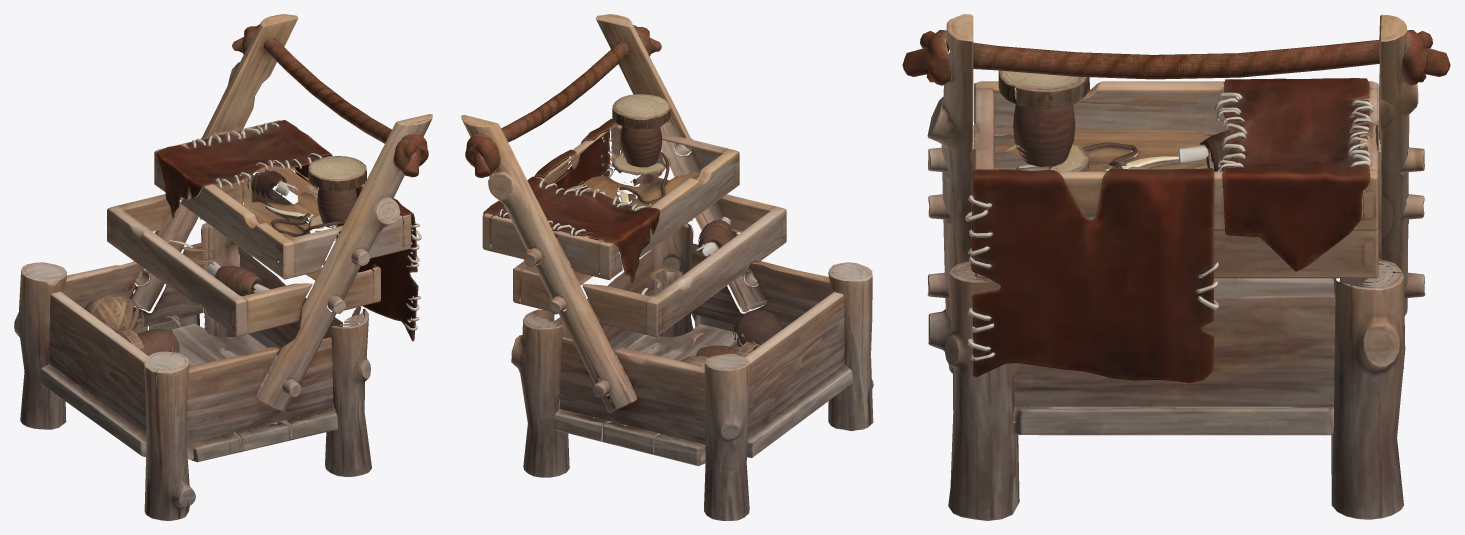
The picture shows the model from 3 angles, left to right: view 1: azimuth 30°, elevation 25°; view 2: azimuth 150°, elevation 25°; view 3: azimuth 270°, elevation 25°; orthographic projection. The views are drawn at different scales.
Visible parts, largest first — view 1: SM_Tanners_Kit_01_LOD0; view 2: SM_Tanners_Kit_01_LOD0; view 3: SM_Tanners_Kit_01_LOD0.
Part boxes in pixels (<box>): SM_Tanners_Kit_01_LOD0: <box>14,14,432,520</box>; SM_Tanners_Kit_01_LOD0: <box>461,14,873,520</box>; SM_Tanners_Kit_01_LOD0: <box>902,14,1450,520</box>.
Size of the model in its own units: 0.6471 by 0.7458 by 0.7036.
Materials: 1 (1 with a texture image).
